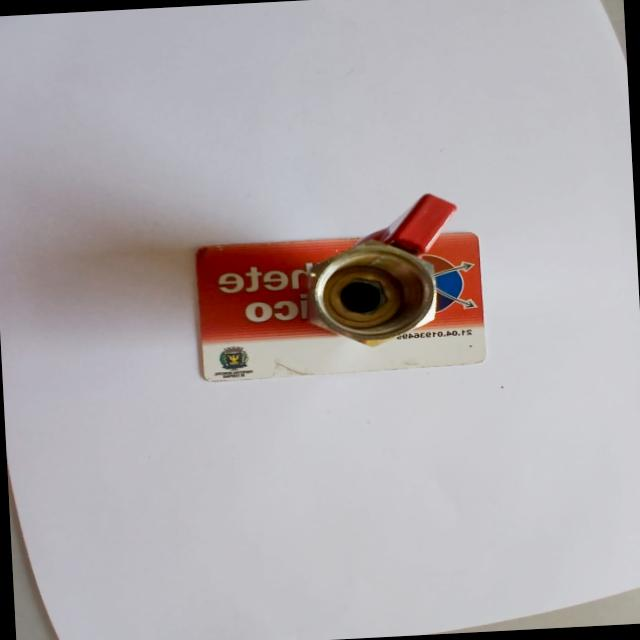cartao: (196, 232, 484, 382)
rosca_interna: (301, 249, 437, 352)
